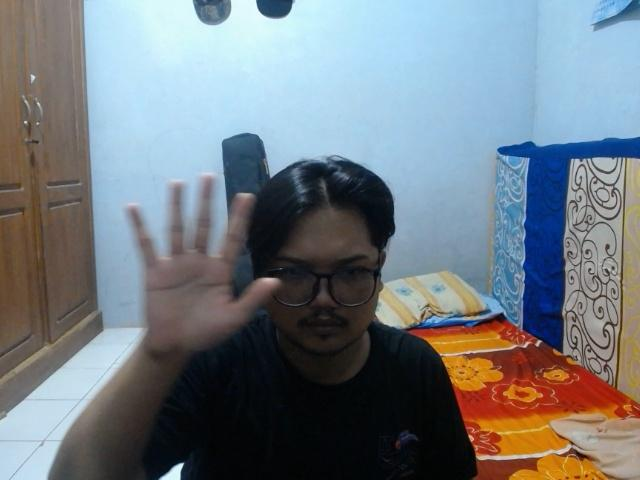Release: (123, 171, 282, 363)
